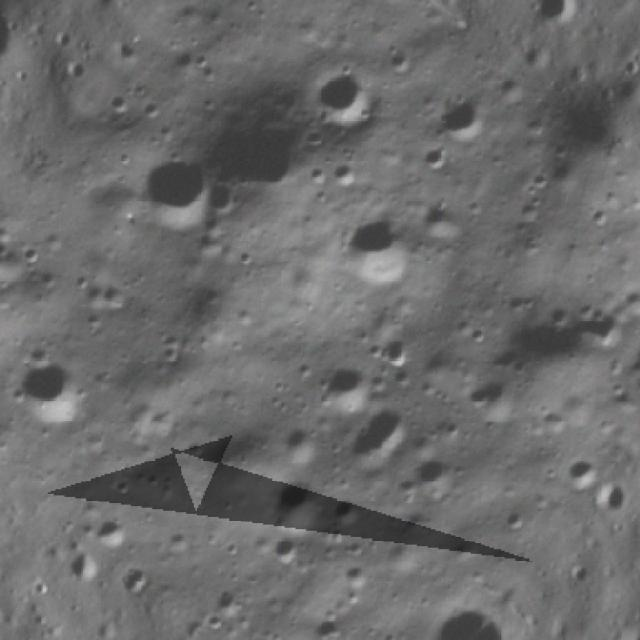crater: (201, 86, 319, 206), (131, 142, 220, 233), (339, 205, 423, 290), (299, 57, 381, 137), (414, 79, 497, 158), (339, 402, 415, 480), (13, 357, 85, 429), (263, 463, 332, 532), (0, 218, 51, 310), (408, 447, 470, 511), (422, 591, 496, 640), (312, 353, 372, 413), (264, 529, 314, 577), (330, 490, 375, 535), (562, 451, 607, 495), (620, 307, 640, 399), (205, 181, 246, 222), (631, 179, 640, 259)
